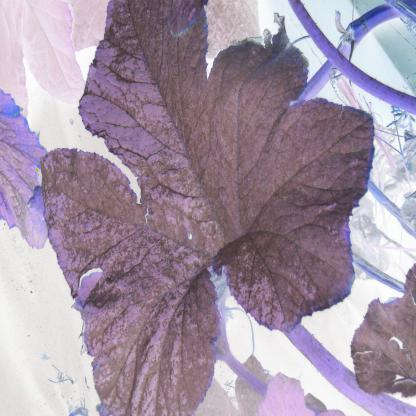Squash Powdery mildew leaf: (38, 5, 387, 416)
